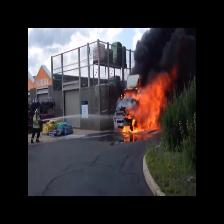fire: (125, 81, 163, 135)
smoke: (139, 30, 194, 68)
